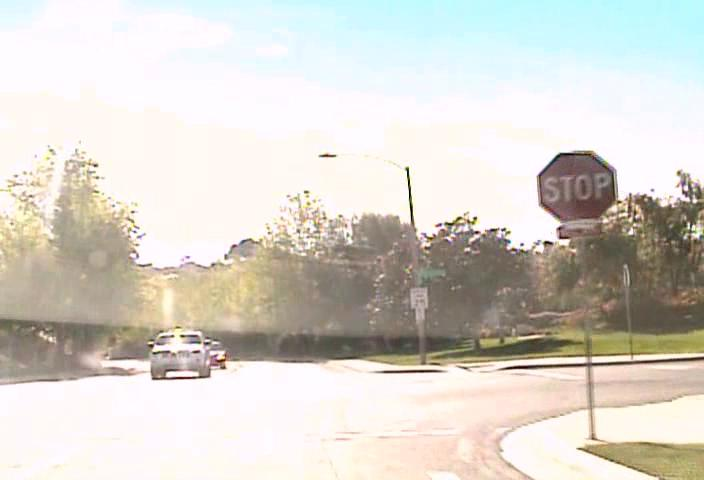stop: (536, 149, 617, 224)
